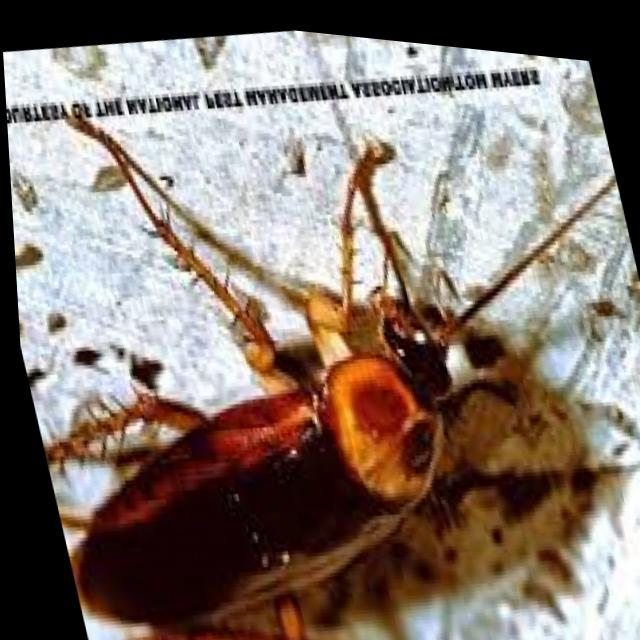Cockroach: (1, 32, 640, 640)
